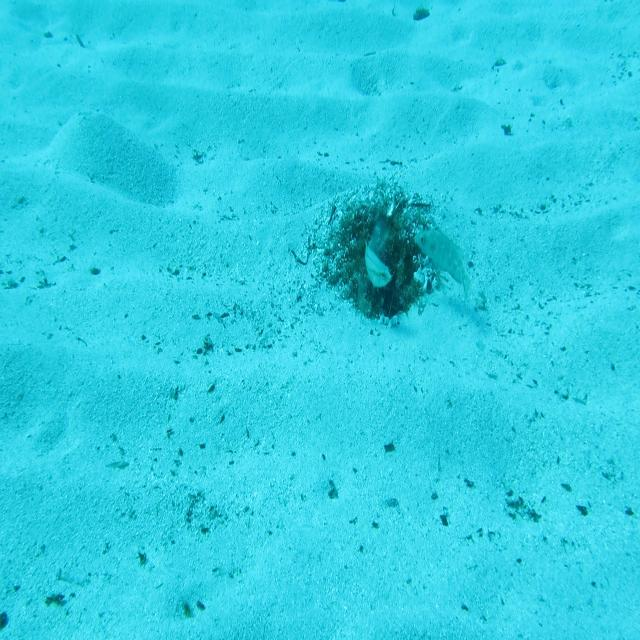DAN_CIRC: (413, 223, 475, 303)
female: (360, 210, 395, 298)
nest: (322, 176, 457, 324)
